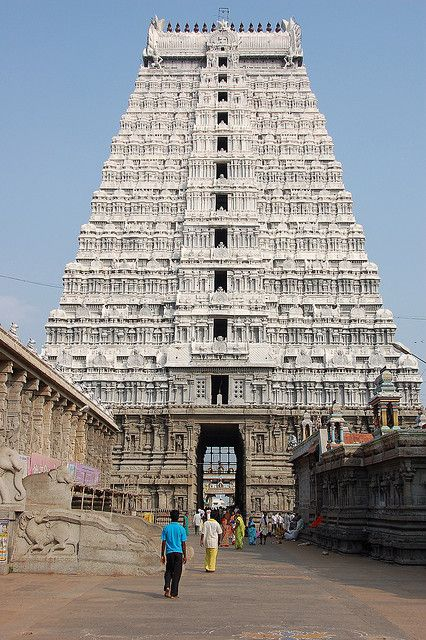Temple: (58, 12, 400, 449)
